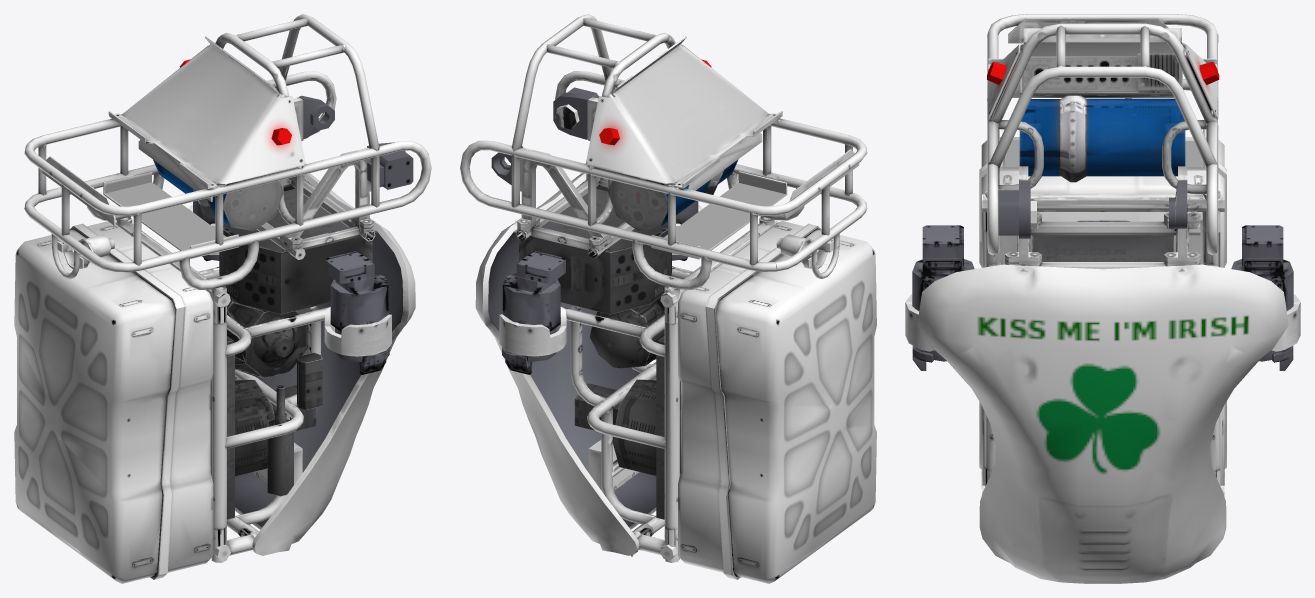
The model's file is utorso.dae.
The picture shows the model from 3 angles, left to right: view 1: azimuth 30°, elevation 25°; view 2: azimuth 150°, elevation 25°; view 3: azimuth 270°, elevation 25°; orthographic projection. The views are drawn at different scales.
Visible parts, largest first — view 1: utorso; view 2: utorso; view 3: utorso.
Boxes of the visible parts, left/top/right/bottom form: utorso: left=14, top=14, right=431, bottom=583; utorso: left=460, top=14, right=876, bottom=583; utorso: left=905, top=14, right=1300, bottom=583.
Size of the model in its own units: 0.6238 by 0.5601 by 0.8599.
Materials: 1 (1 with a texture image).
